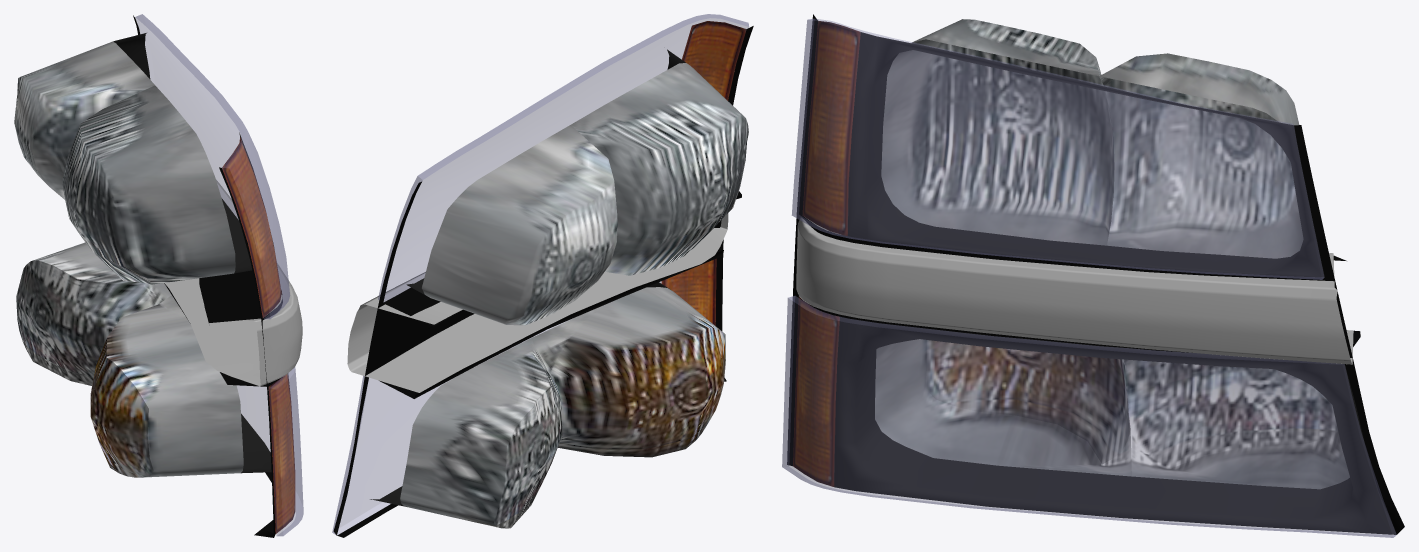
3 renders of one model, left to right at view 1: azimuth 30°, elevation 25°; view 2: azimuth 150°, elevation 25°; view 3: azimuth 270°, elevation 25°, orthographic. The views are drawn at different scales.
Parts seen in each view (by area): view 1: U805_4A_061B_R_U805_4A_061B_R_5_N, U805_4A_061B_R_U805_4A_061B_R_3_DTaSI, U805_4A_061B_R_1_DaS_U805_4A_061B_R, U805_4A_061B_R_U805_4A_061B_R_4_N, U805_4A_061B_R_U805_4A_061B_R_2_DTaSI, U805_4A_061B_R_U805_4A_061B_R_6_D; view 2: U805_4A_061B_R_U805_4A_061B_R_5_N, U805_4A_061B_R_U805_4A_061B_R_3_DTaSI, U805_4A_061B_R_1_DaS_U805_4A_061B_R, U805_4A_061B_R_U805_4A_061B_R_2_DTaSI, U805_4A_061B_R_U805_4A_061B_R_6_D, U805_4A_061B_R_U805_4A_061B_R_4_N; view 3: U805_4A_061B_R_U805_4A_061B_R_5_N, U805_4A_061B_R_U805_4A_061B_R_2_DTaSI, U805_4A_061B_R_U805_4A_061B_R_3_DTaSI, U805_4A_061B_R_U805_4A_061B_R_4_N, U805_4A_061B_R_1_DaS_U805_4A_061B_R, U805_4A_061B_R_U805_4A_061B_R_6_D.
Part boxes in pixels (x1,y1,x2,y2): U805_4A_061B_R_U805_4A_061B_R_5_N: (14, 41, 295, 533); U805_4A_061B_R_U805_4A_061B_R_3_DTaSI: (135, 14, 289, 319); U805_4A_061B_R_1_DaS_U805_4A_061B_R: (164, 180, 302, 386); U805_4A_061B_R_U805_4A_061B_R_4_N: (113, 33, 289, 473); U805_4A_061B_R_U805_4A_061B_R_2_DTaSI: (237, 367, 303, 536); U805_4A_061B_R_U805_4A_061B_R_6_D: (133, 15, 282, 537); U805_4A_061B_R_U805_4A_061B_R_5_N: (400, 21, 748, 528); U805_4A_061B_R_U805_4A_061B_R_3_DTaSI: (378, 14, 748, 301); U805_4A_061B_R_1_DaS_U805_4A_061B_R: (347, 213, 728, 392); U805_4A_061B_R_U805_4A_061B_R_2_DTaSI: (332, 281, 661, 534); U805_4A_061B_R_U805_4A_061B_R_6_D: (333, 26, 753, 537); U805_4A_061B_R_U805_4A_061B_R_4_N: (370, 49, 741, 506); U805_4A_061B_R_U805_4A_061B_R_5_N: (793, 19, 1349, 489); U805_4A_061B_R_U805_4A_061B_R_2_DTaSI: (782, 296, 1396, 537); U805_4A_061B_R_U805_4A_061B_R_3_DTaSI: (792, 18, 1324, 279); U805_4A_061B_R_U805_4A_061B_R_4_N: (834, 32, 1396, 534); U805_4A_061B_R_1_DaS_U805_4A_061B_R: (796, 217, 1353, 364); U805_4A_061B_R_U805_4A_061B_R_6_D: (787, 14, 1404, 534).
Size of the model in its own units: 17.98 by 27.74 by 35.77.
